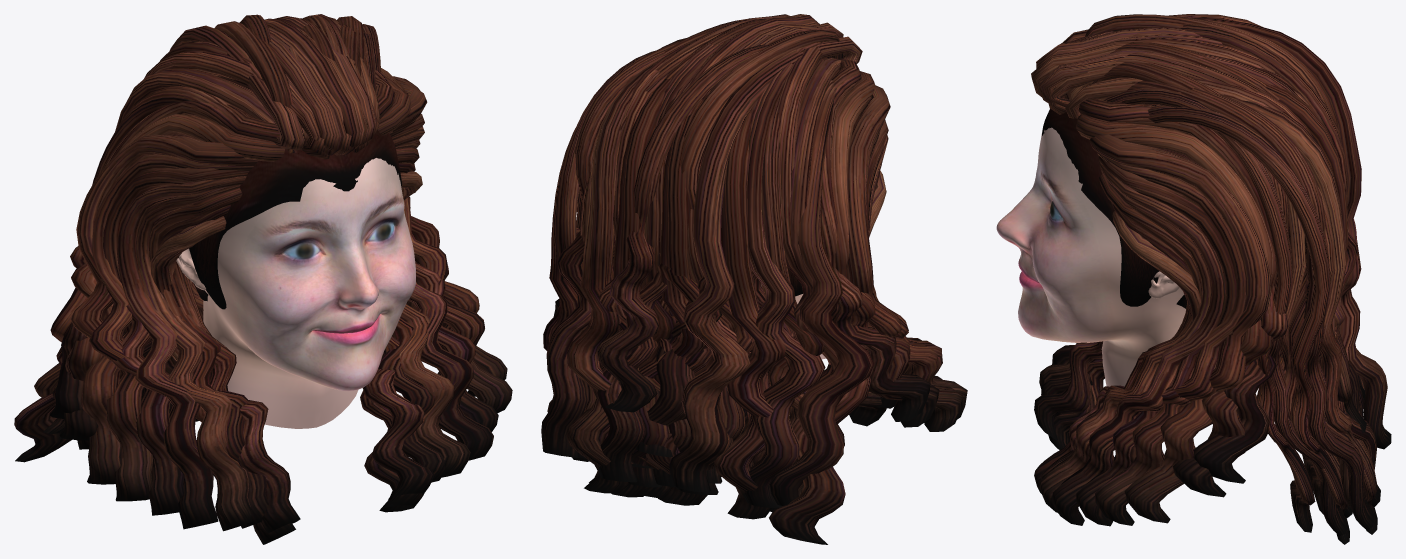
Rendered from frown.obj.
The picture shows the model from 3 angles, left to right: view 1: azimuth 30°, elevation 25°; view 2: azimuth 150°, elevation 25°; view 3: azimuth 270°, elevation 25°; orthographic projection. The views are drawn at different scales.
Visible parts, largest first — view 1: frown; view 2: frown; view 3: frown.
Boxes of the visible parts, left/top/right/bottom form: frown: left=14, top=14, right=512, bottom=544; frown: left=541, top=14, right=967, bottom=544; frown: left=996, top=14, right=1391, bottom=544.
Size of the model in its own units: 365 by 387 by 298.
